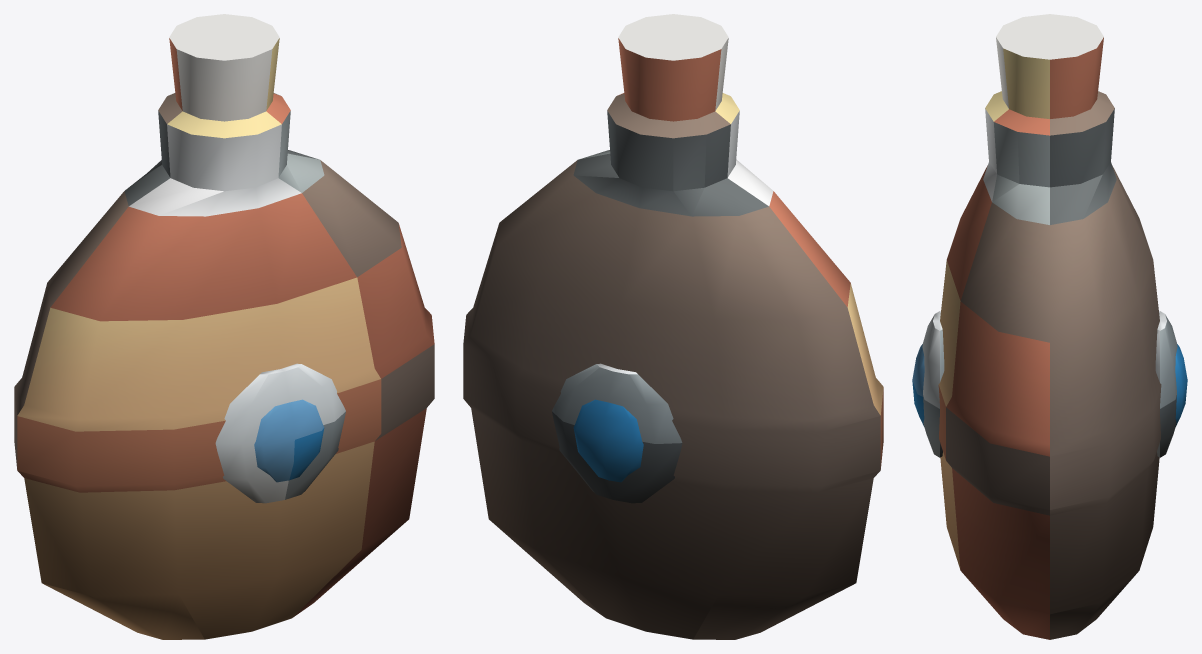
File: drink_water_canteen.glb
3 views of the same model, side by side, from view 1: azimuth 30°, elevation 25°; view 2: azimuth 150°, elevation 25°; view 3: azimuth 270°, elevation 25° (orthographic). The views are drawn at different scales.
Parts seen in each view (by area): view 1: Item; view 2: Item; view 3: Item.
Part boxes in pixels (x1,y1,x2,y2): Item: (14,14,434,639); Item: (463,14,883,639); Item: (912,14,1187,639).
Bounding box in the file's own units: 0.476 × 0.63 × 0.28.
1 material, 1 textured.
